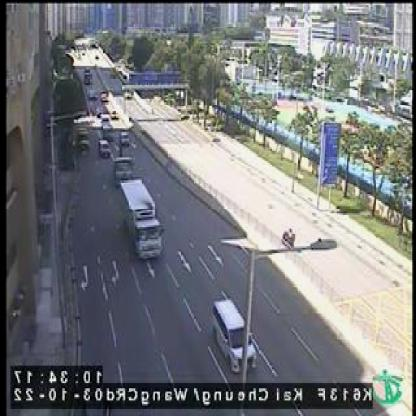Car: (213, 298, 259, 369), (97, 139, 112, 156), (124, 132, 132, 144)
Truck: (117, 177, 163, 258), (114, 156, 134, 185)
